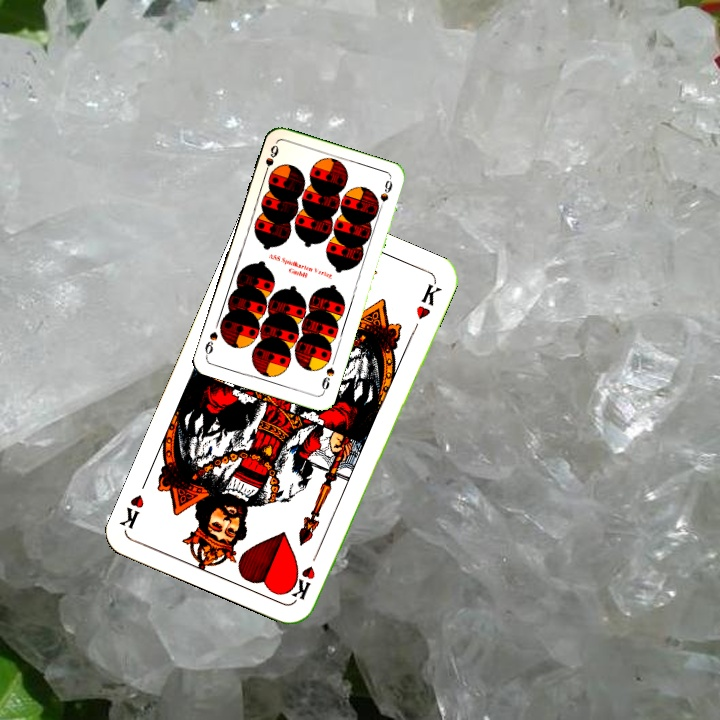HK: (287, 546, 322, 603)
S9: (260, 141, 281, 180), (317, 363, 337, 396)
